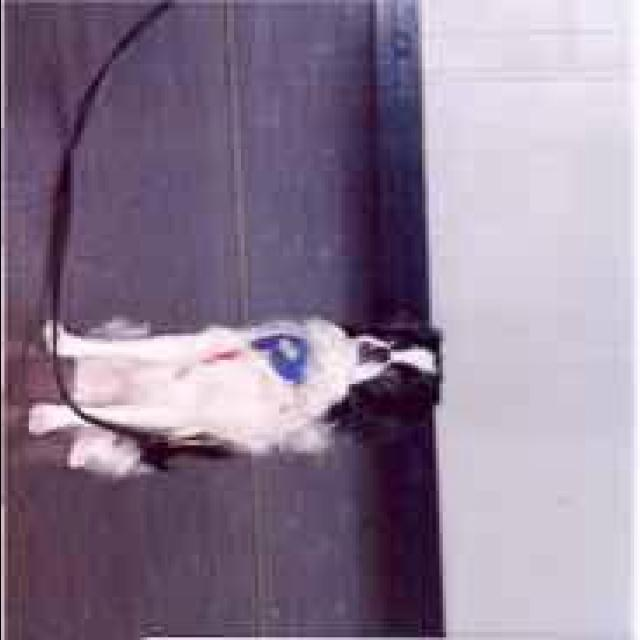husky: (21, 314, 449, 488)
